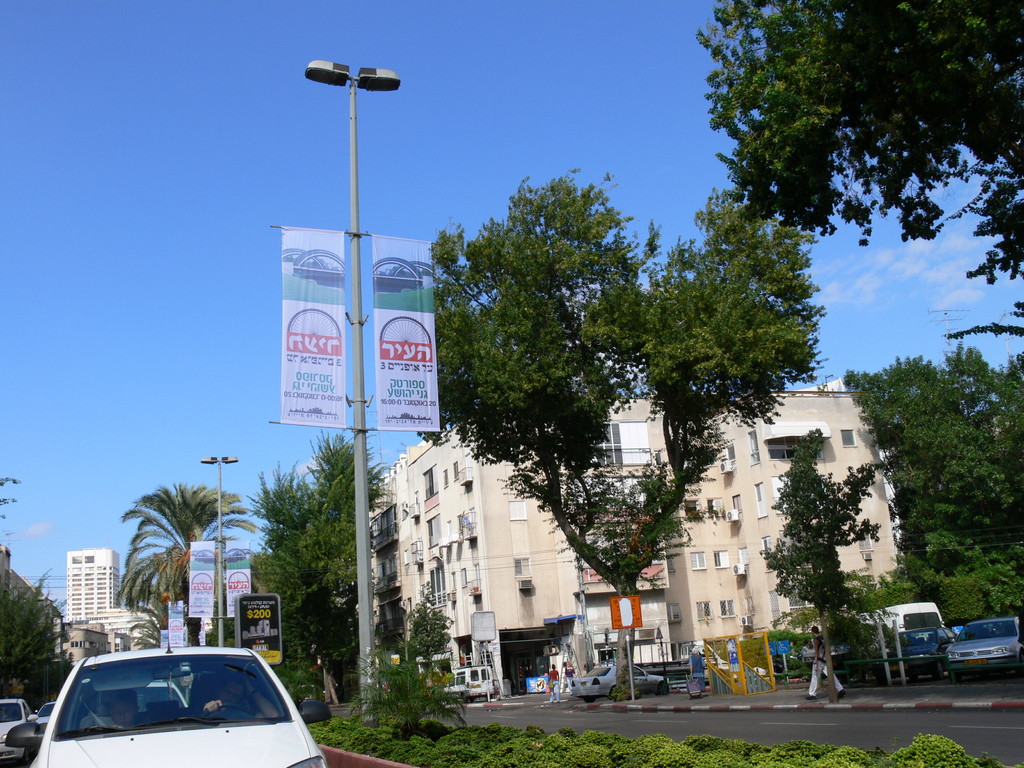Car: (32, 637, 321, 767), (947, 616, 1022, 672), (83, 679, 190, 718), (574, 658, 667, 695), (0, 693, 35, 767), (900, 628, 951, 677), (32, 700, 55, 728)
